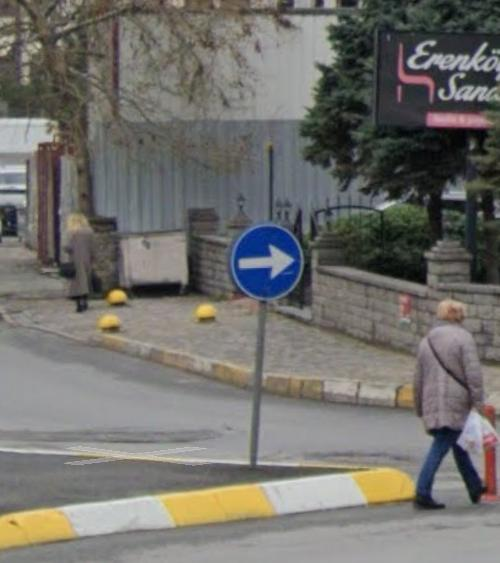turnright: (230, 224, 305, 303)
